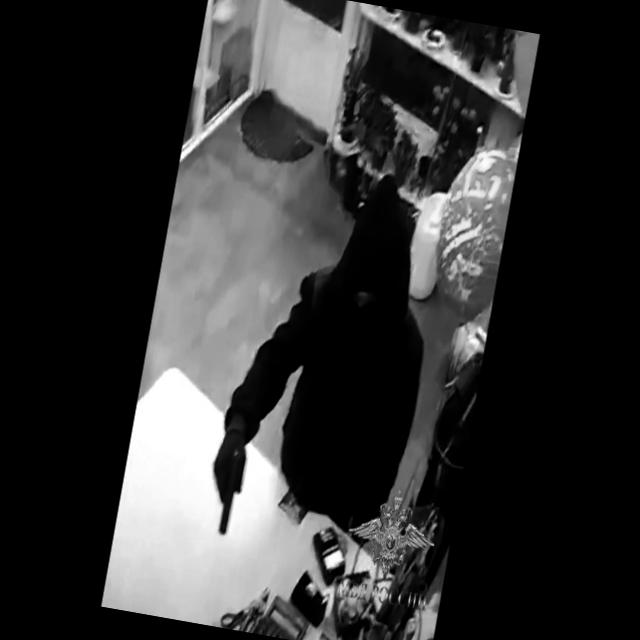gun: (202, 425, 254, 531)
person with a gun: (204, 193, 447, 556)
